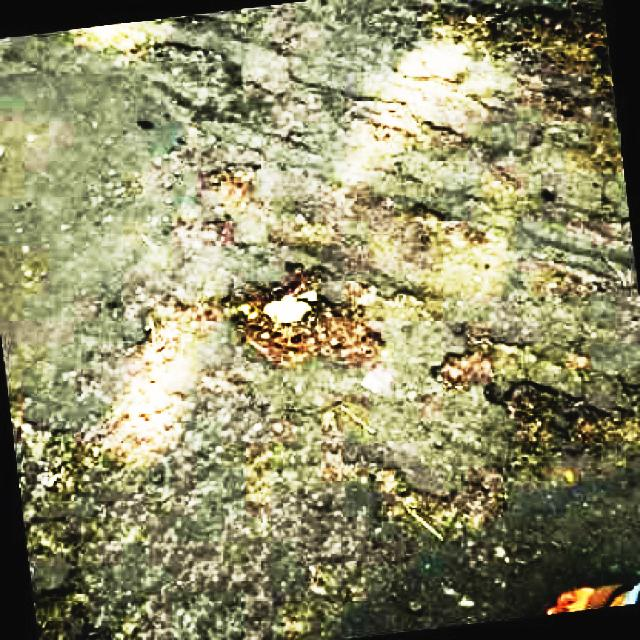pothole: (441, 341, 640, 487), (400, 0, 617, 77), (223, 275, 388, 368), (342, 456, 503, 532), (132, 294, 211, 381), (334, 85, 417, 149), (124, 36, 213, 70), (210, 157, 268, 209)
